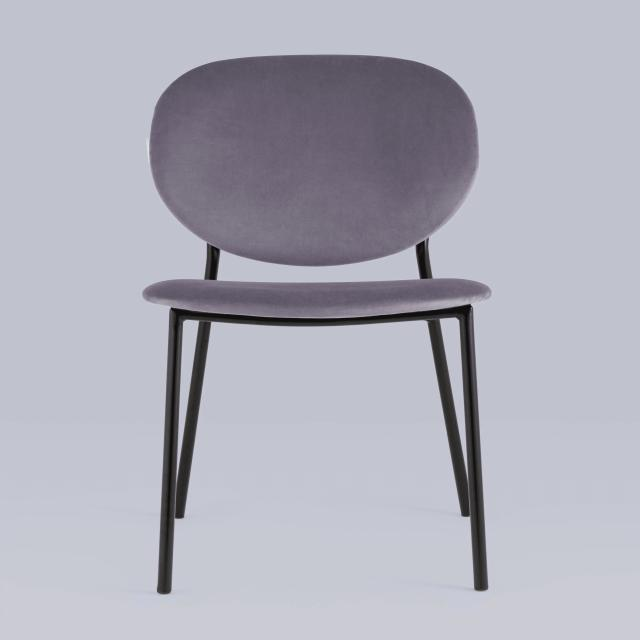chair: (137, 42, 502, 596), (141, 44, 496, 326), (497, 322, 500, 328)
